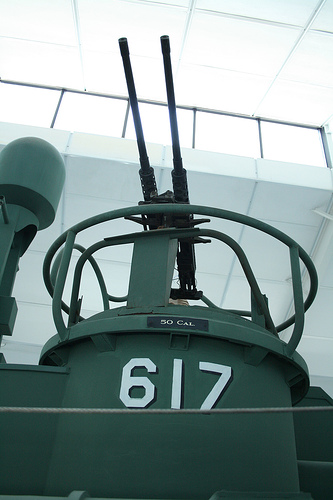rifle: (113, 35, 210, 302)
